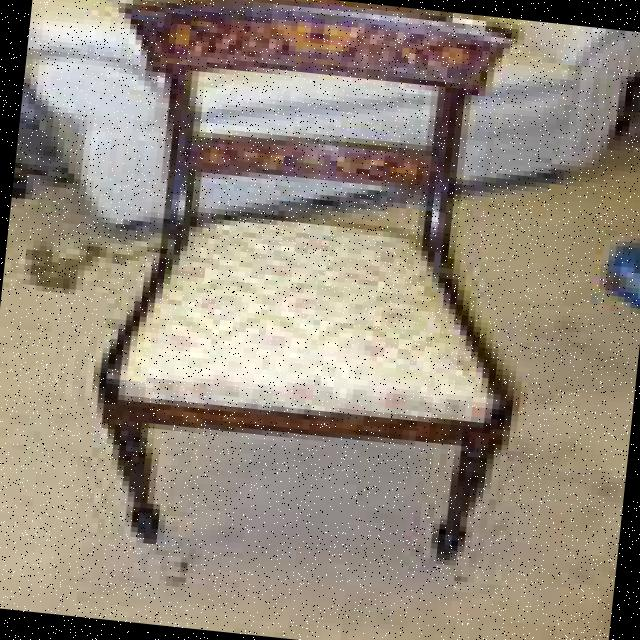Chair: (57, 0, 579, 602)
